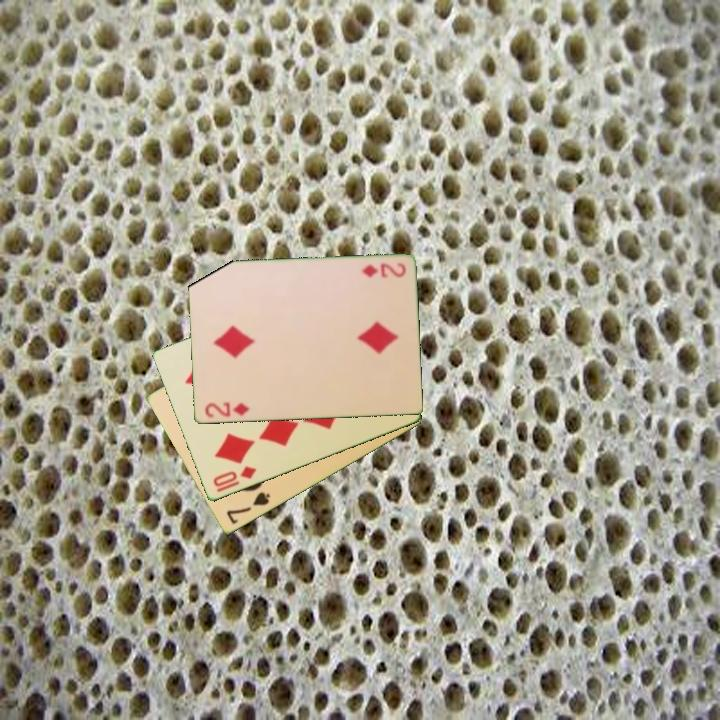10d: (209, 463, 259, 490)
2d: (201, 399, 252, 421), (358, 259, 408, 280)
7s: (223, 489, 273, 527)
